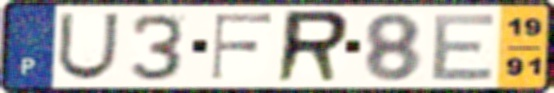3: (128, 11, 188, 82)
8: (360, 10, 426, 83)
E: (428, 11, 500, 83)
F: (208, 12, 276, 82)
R: (271, 8, 354, 86)
U: (54, 11, 122, 82)
